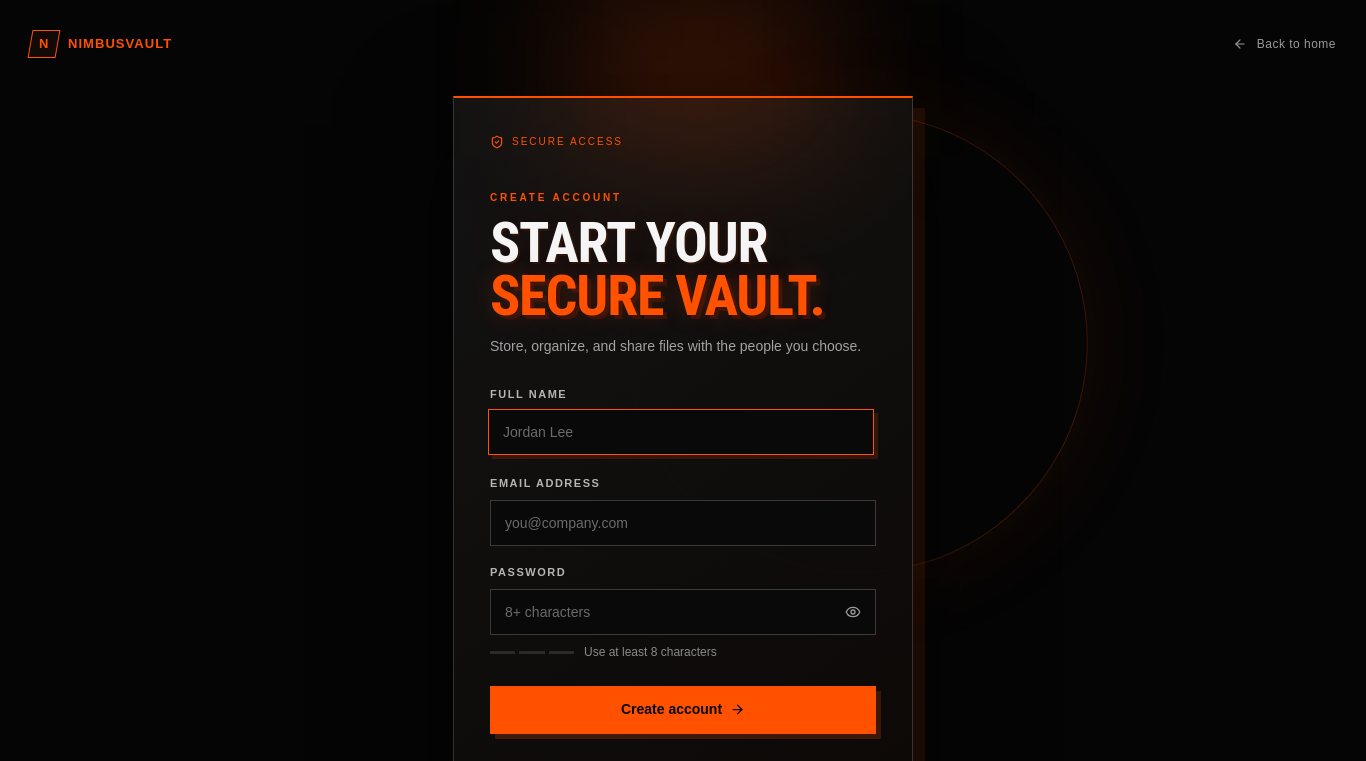
Test: RegisterPage › shows error when password is too short
Type "Test User" into the field labelled "Full name" at (681, 432), box x1=488 y1=409 x2=874 y2=455
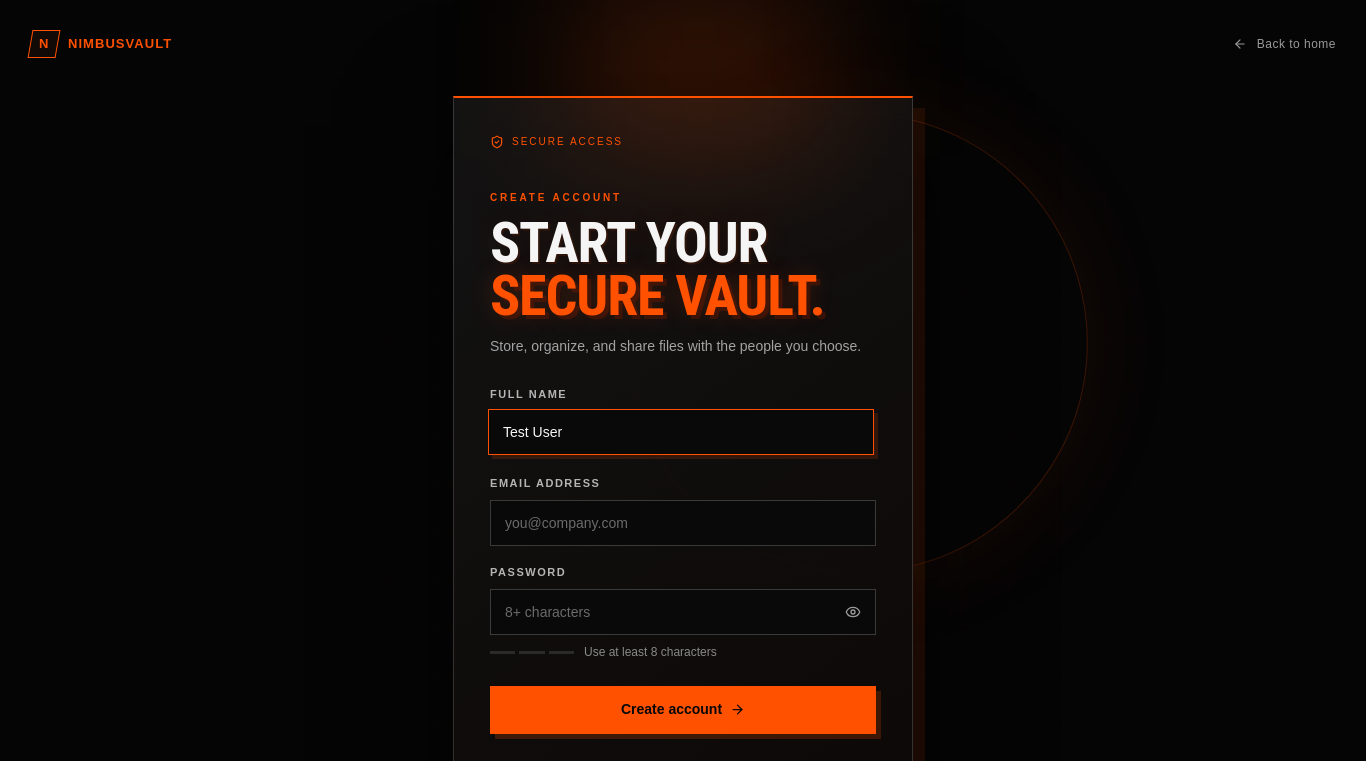
Type "test@example.com" into the field labelled "Email address" at (683, 523), box x1=490 y1=500 x2=876 y2=546
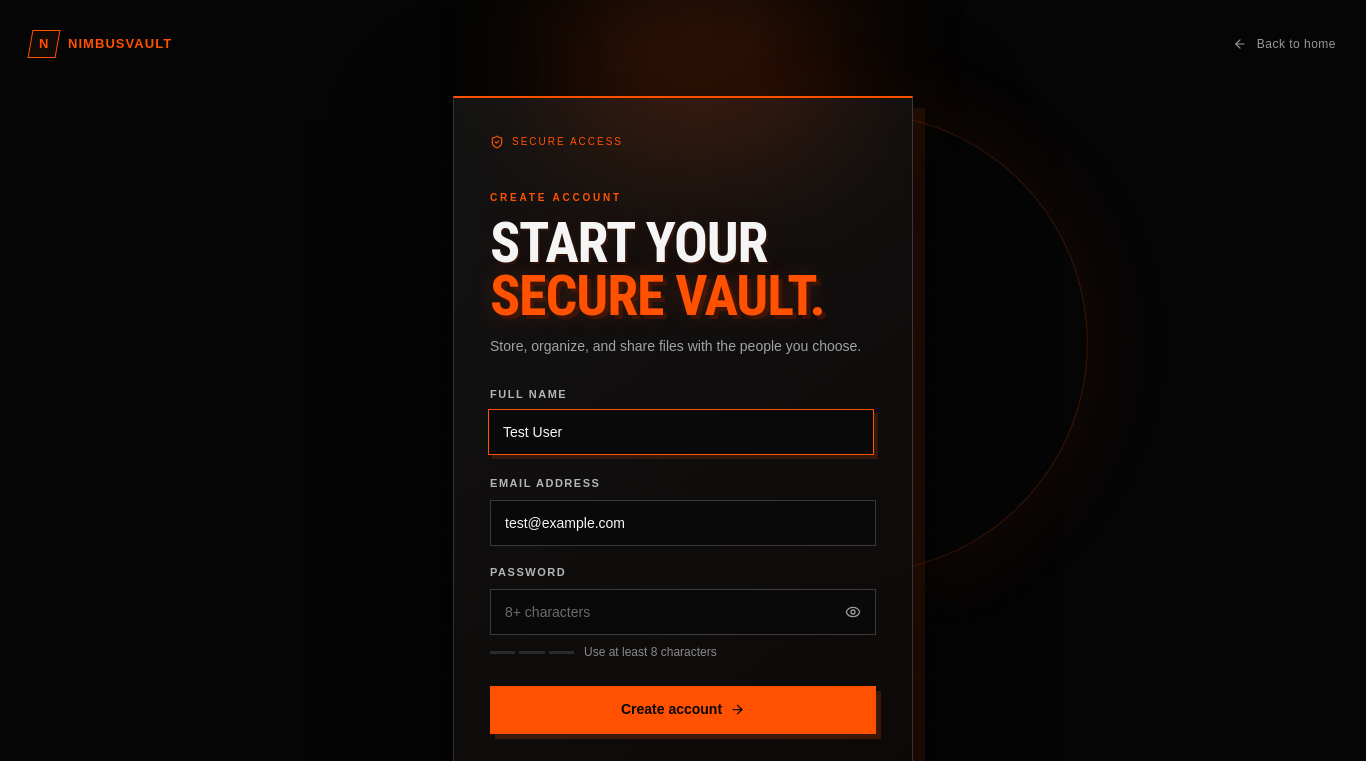
Type "short" into the password field labelled "Password" at (683, 612), box x1=490 y1=589 x2=876 y2=635
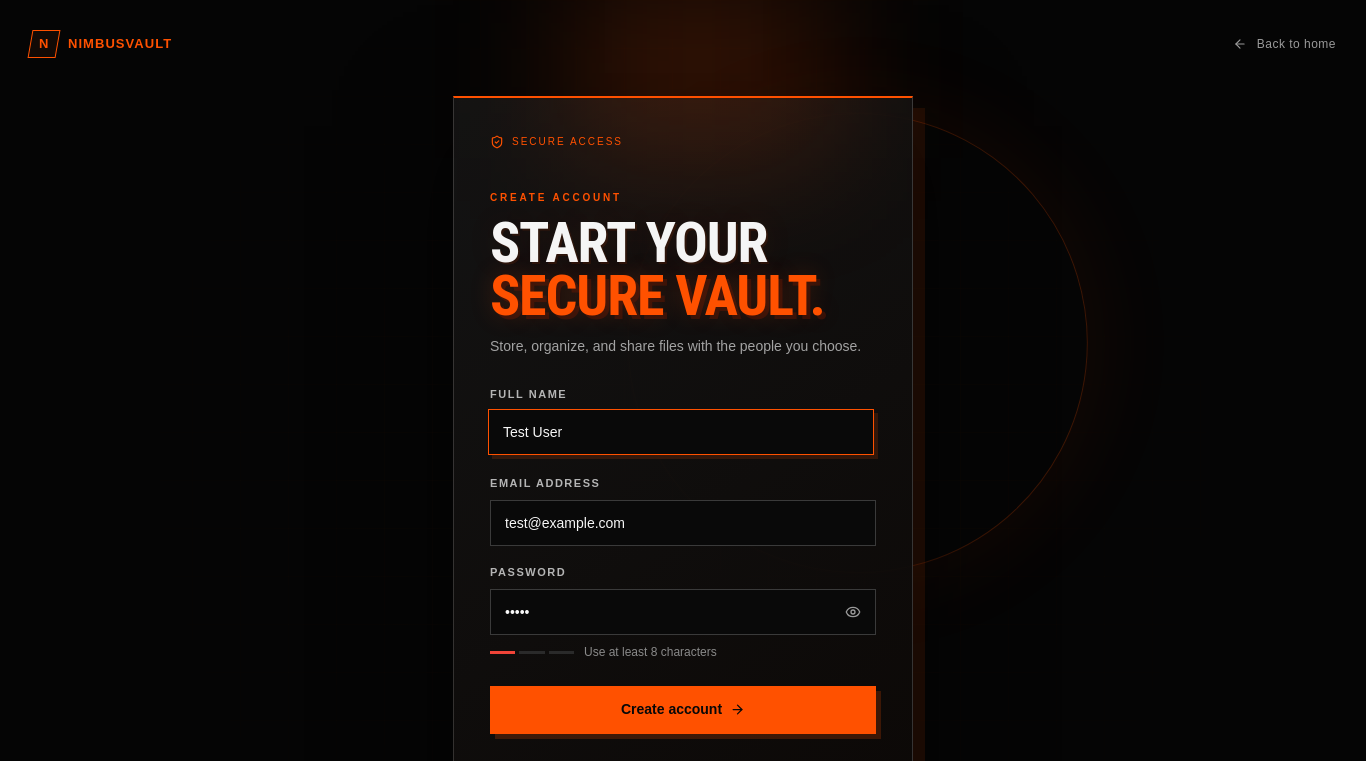
Click the button "Create account" at (683, 710), box x1=490 y1=686 x2=876 y2=734
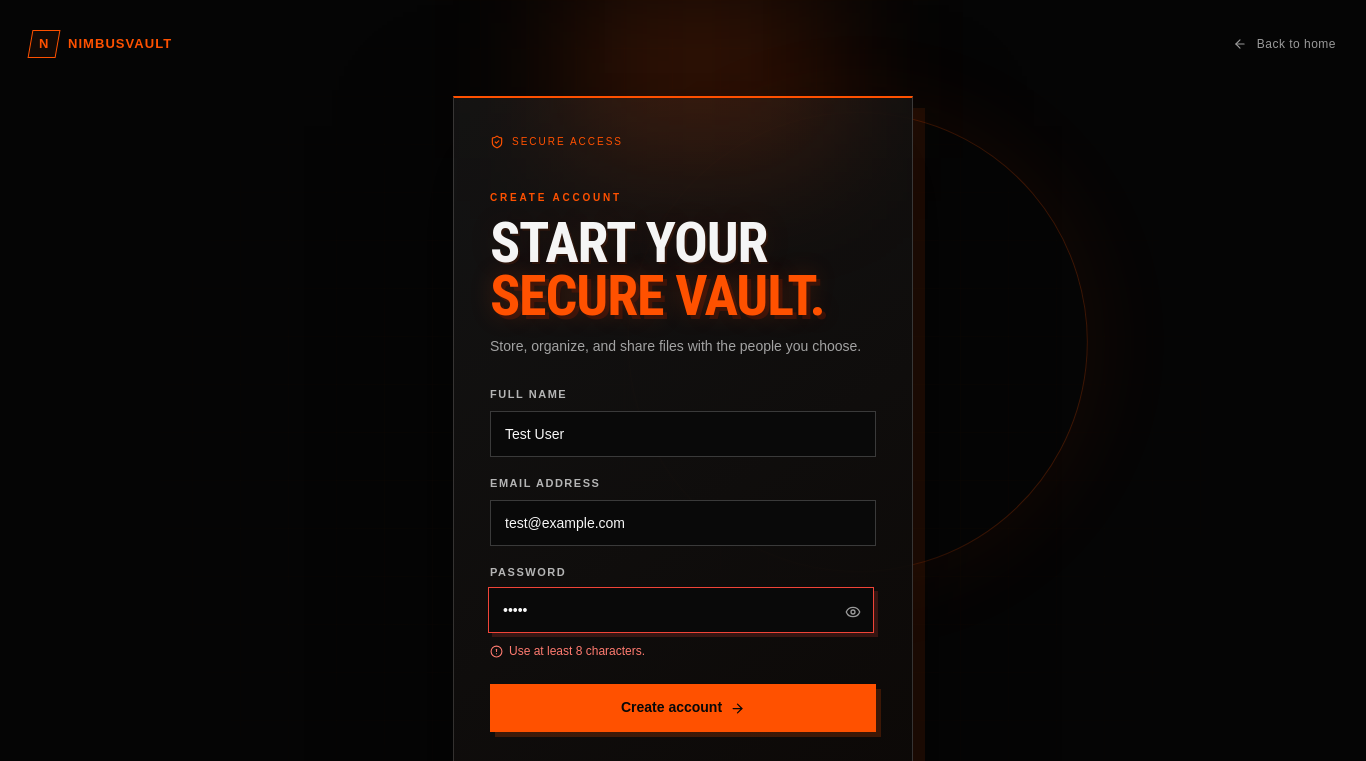
Now the text "Use at least 8 characters." is shown, box x1=490 y1=644 x2=645 y2=658
